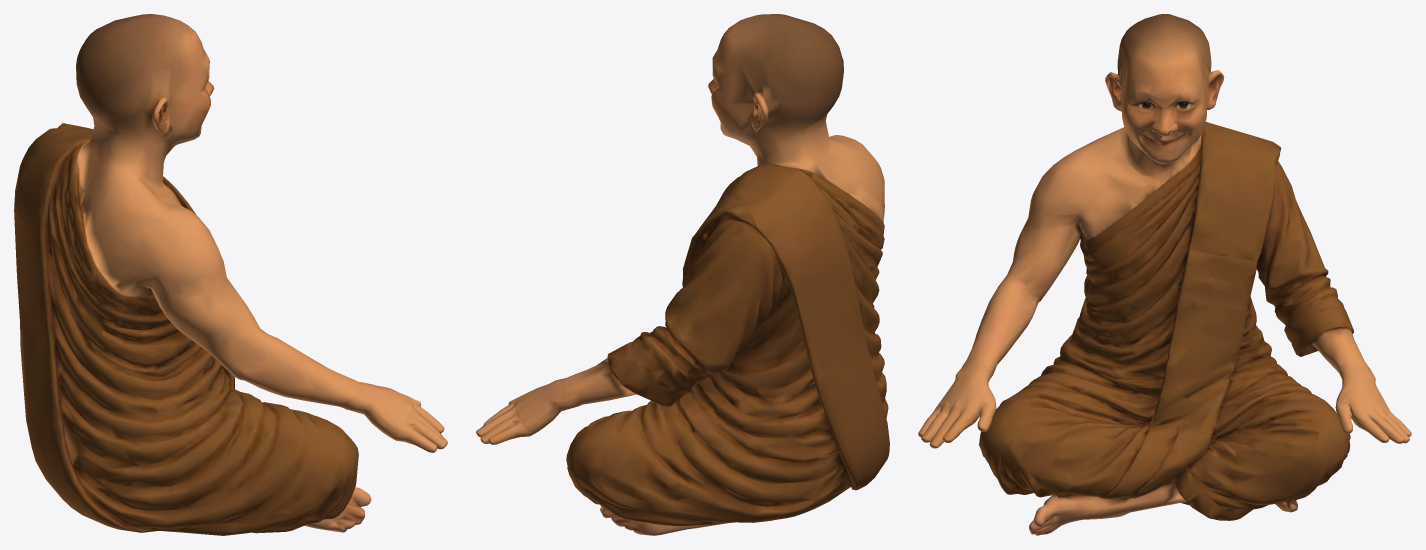
File: monk-middle.glb
3 renders of one model, left to right at view 1: azimuth 30°, elevation 25°; view 2: azimuth 150°, elevation 25°; view 3: azimuth 270°, elevation 25°, orthographic. The views are drawn at different scales.
Visible parts, largest first — view 1: tripo_node_c1f15395-ca35-4df2-a914-84749985f534; view 2: tripo_node_c1f15395-ca35-4df2-a914-84749985f534; view 3: tripo_node_c1f15395-ca35-4df2-a914-84749985f534.
Part boxes in pixels (<box>): tripo_node_c1f15395-ca35-4df2-a914-84749985f534: <box>14,14,447,535</box>; tripo_node_c1f15395-ca35-4df2-a914-84749985f534: <box>476,14,889,535</box>; tripo_node_c1f15395-ca35-4df2-a914-84749985f534: <box>918,14,1411,535</box>.
Size of the model in its own units: 0.5903 by 0.9993 by 0.9847.
Materials: 1 (1 with a texture image).
